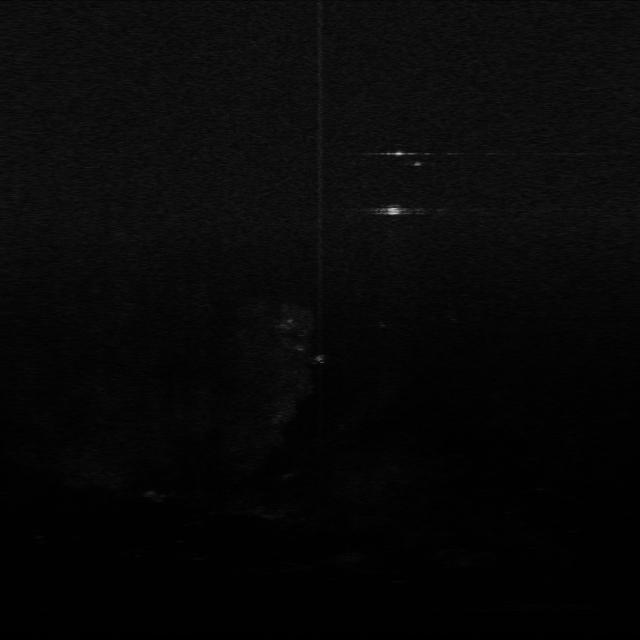rov: (379, 202, 407, 218)
